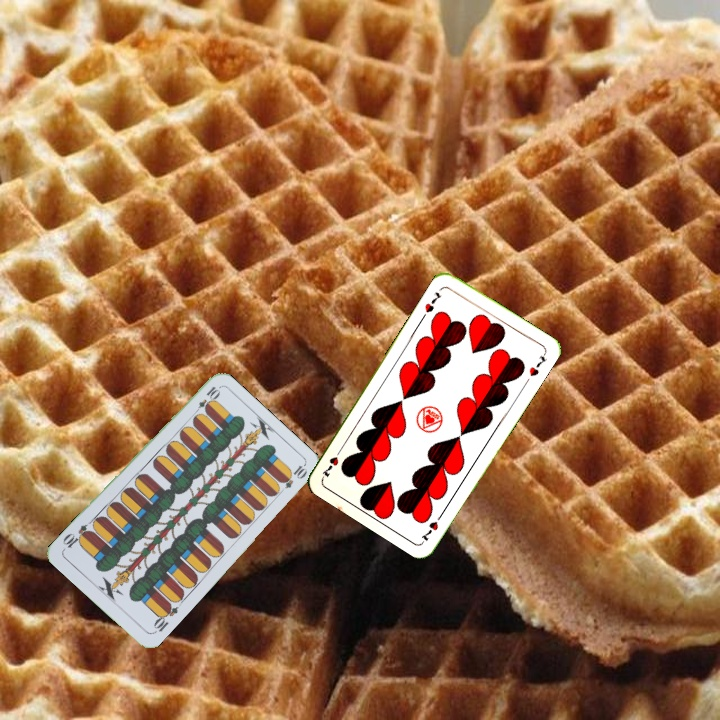E10: (149, 599, 181, 636), (190, 382, 222, 418)
H7: (417, 508, 446, 544), (420, 288, 444, 315)
